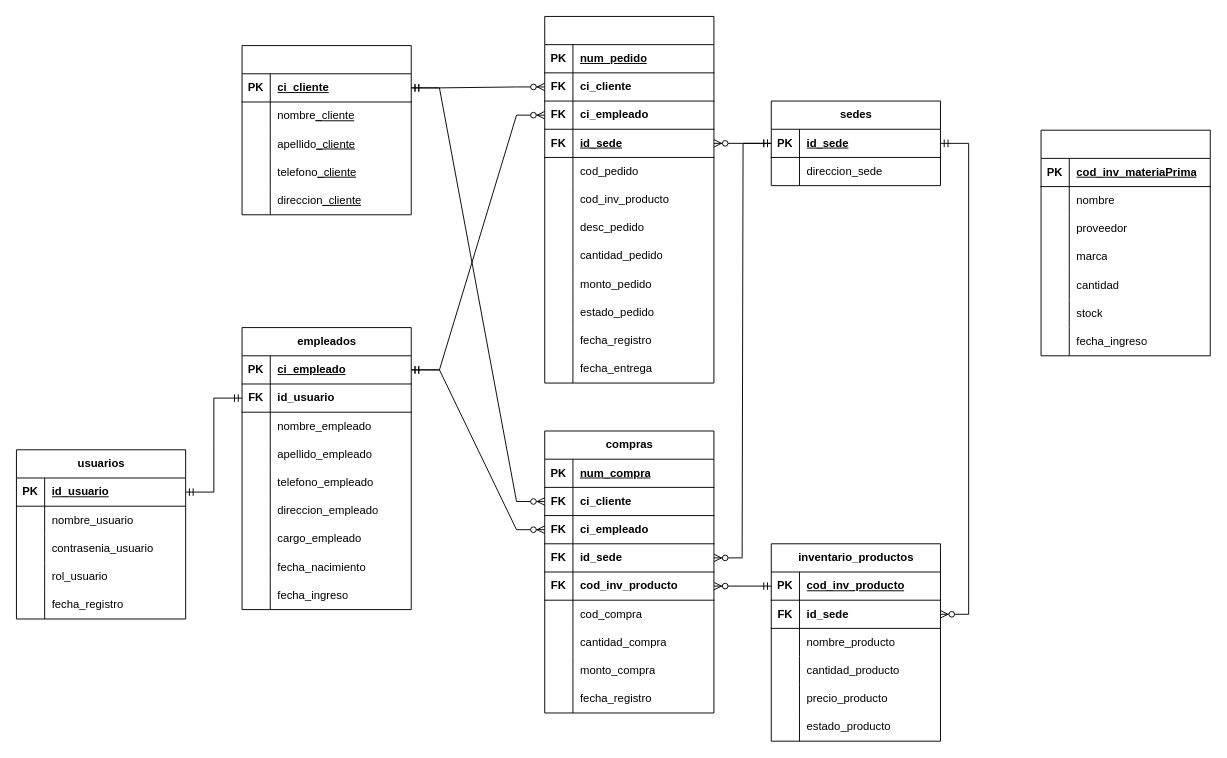
Image size: 1227x758. Some labels were removed from this diagram. The shapes that lost their labels are listed below. From the top down, each one's box as (x1, y1, x2, y2) in pixels, then its label:
(241, 45, 411, 215): clientes
(544, 16, 714, 383): pedidos
(1040, 129, 1210, 356): inventario_materiaPrima
